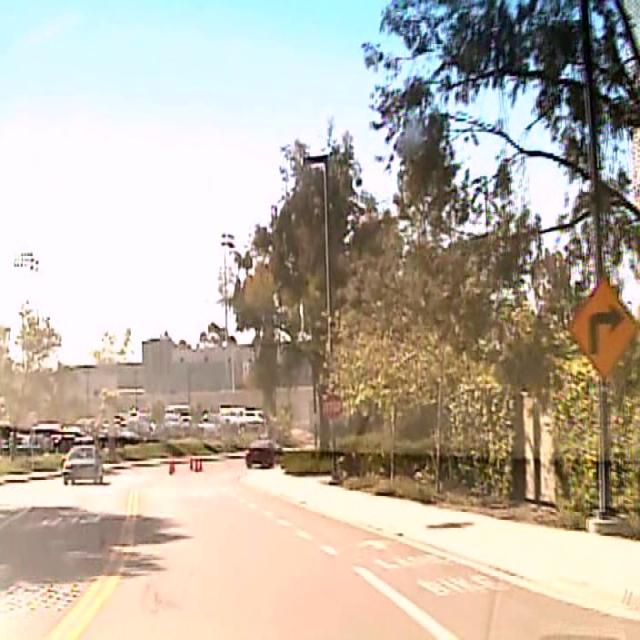stop_sign: (322, 393, 344, 423)
